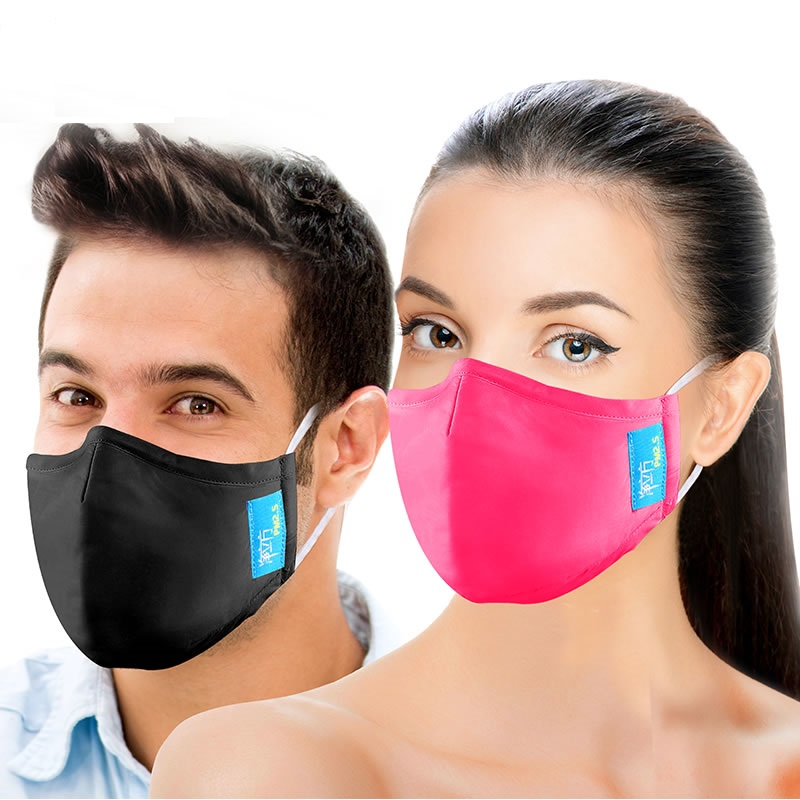face_mask: (388, 181, 690, 600), (32, 238, 304, 640)
